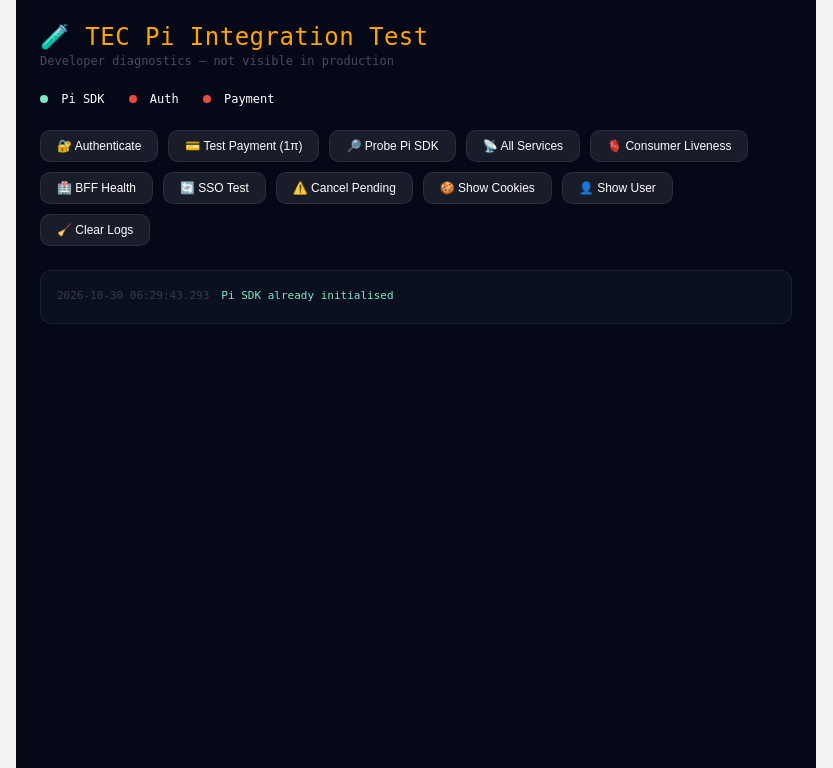
Test: PiTestClient Cancel Pending › logs error status when resolve endpoint returns !ok
Click the button "⚠️ Cancel Pending" at x=344, y=188, box [276,172,413,204]
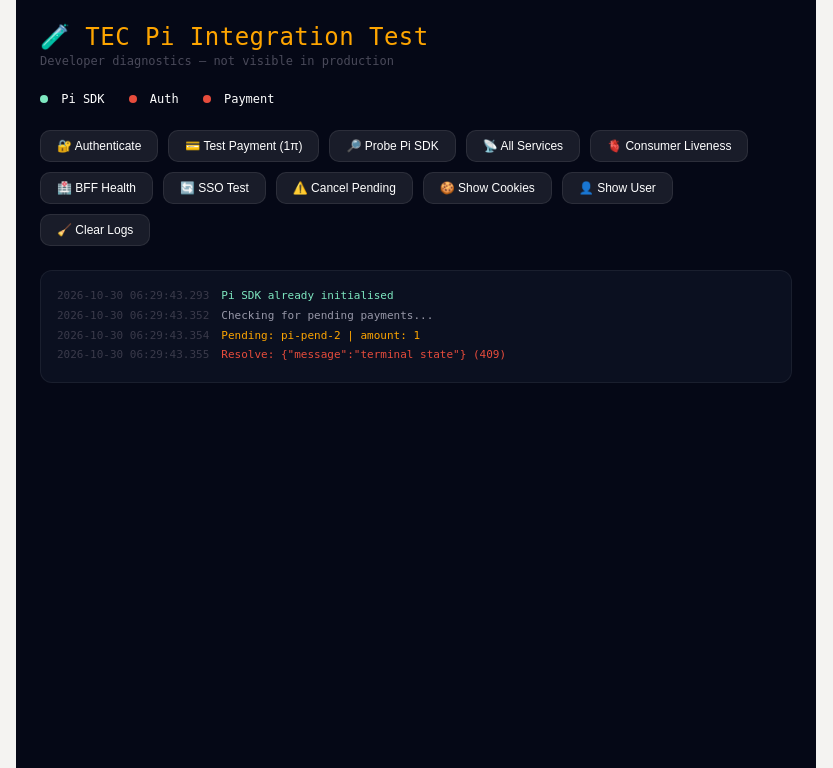
Now the text "(409)" is shown, box [221,348,506,361]
